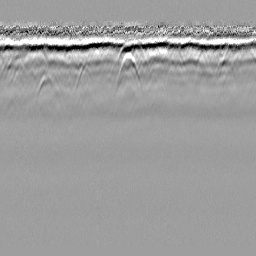cavity: (112, 51, 144, 99)
